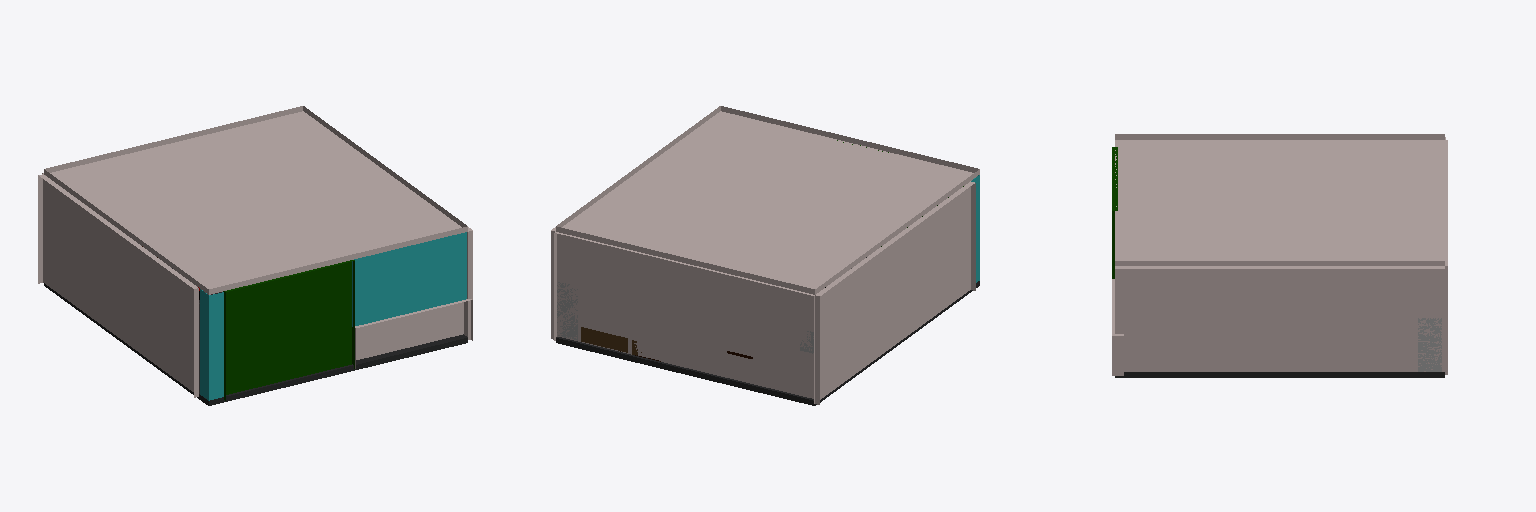
The model's file is olkkari.obj.
3 views of the same model, side by side, from view 1: azimuth 30°, elevation 25°; view 2: azimuth 150°, elevation 25°; view 3: azimuth 270°, elevation 25° (orthographic).
Visible parts, largest first — view 1: Cube.016_Cube.045, Cube.015_Cube.044, Cube.002, Cube.004_Cube.017, Cube_Cube.010, lattia_Cube, Cube.005_Cube.018, Cube.006_Cube.019, Cube.003; view 2: Cube.016_Cube.045, Cube.001, Cube.015_Cube.044, lattia_Cube, sohva.002_Cube.020, Cube.038_Cube.027; view 3: Cube.016_Cube.045, Cube.003, lattia_Cube, Cube.001, Cube.038_Cube.027, Cube_Cube.010, Cube.002.
Boxes of the visible parts, x1,y1,x2,y2 form: Cube.016_Cube.045: [44, 106, 467, 294]; Cube.015_Cube.044: [38, 174, 198, 397]; Cube.002: [223, 260, 354, 400]; Cube.004_Cube.017: [352, 232, 466, 326]; Cube_Cube.010: [355, 299, 472, 368]; lattia_Cube: [44, 268, 467, 405]; Cube.005_Cube.018: [209, 292, 223, 400]; Cube.006_Cube.019: [200, 289, 208, 400]; Cube.003: [313, 118, 472, 339]; Cube.016_Cube.045: [556, 106, 979, 294]; Cube.001: [554, 232, 814, 403]; Cube.015_Cube.044: [815, 181, 975, 404]; lattia_Cube: [556, 257, 979, 405]; sohva.002_Cube.020: [581, 327, 627, 352]; Cube.038_Cube.027: [557, 282, 577, 340]; Cube.016_Cube.045: [1115, 134, 1444, 265]; Cube.003: [1115, 266, 1444, 371]; lattia_Cube: [1115, 372, 1444, 377]; Cube.001: [1442, 140, 1447, 374]; Cube.038_Cube.027: [1418, 318, 1441, 371]; Cube_Cube.010: [1112, 279, 1123, 375]; Cube.002: [1112, 147, 1117, 278].
Size of the model in its own units: 10.4 by 4.3 by 11.2.